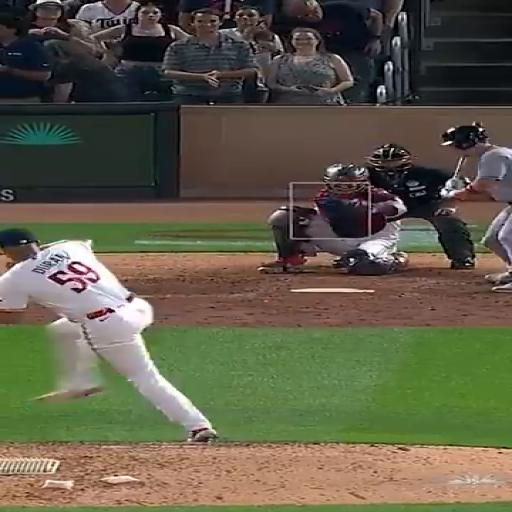bat: (453, 156, 466, 179)
